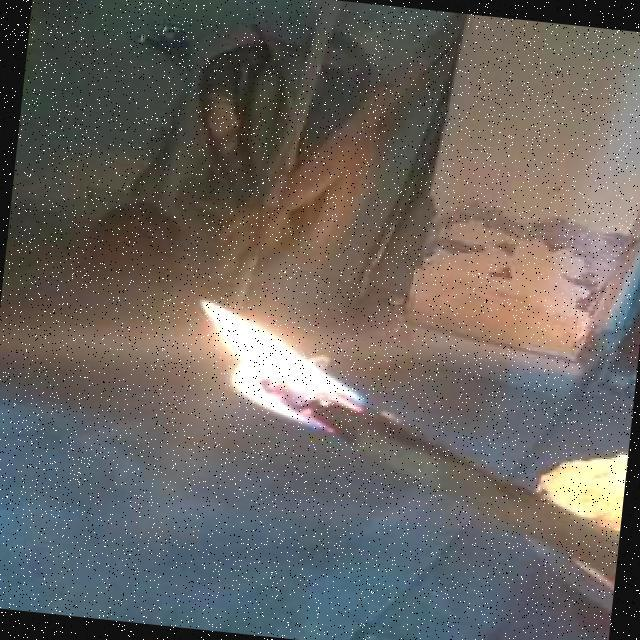Fire: (159, 285, 432, 449)
